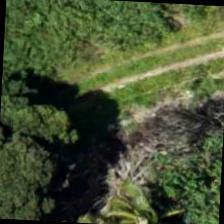Kelapa_Sawit: (102, 169, 197, 223)
